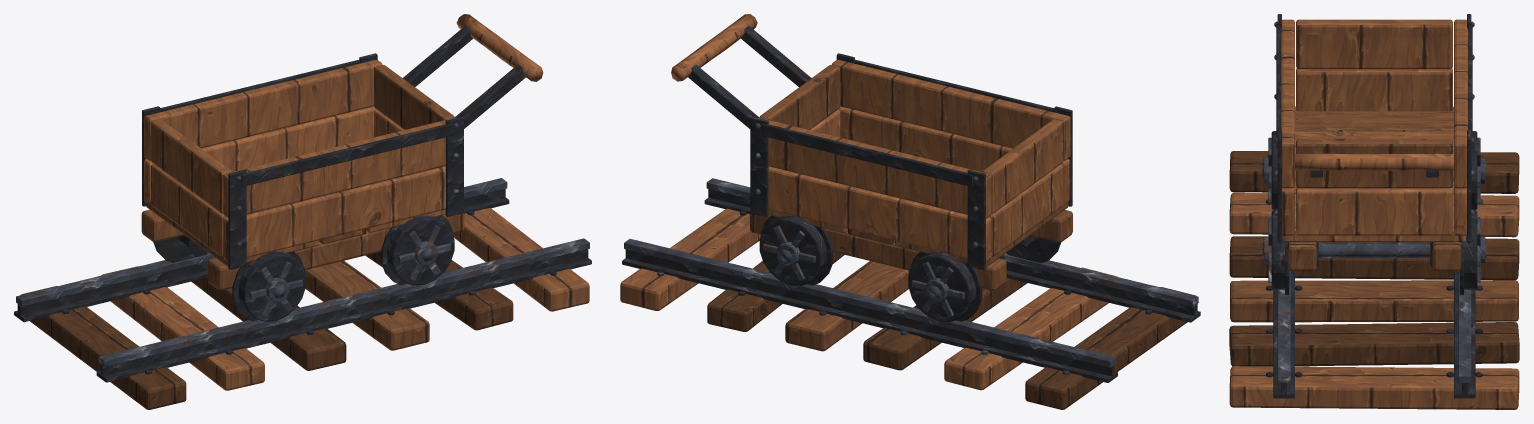
File: hw_ingot_cart_empty.glb
3 views of the same model, side by side, from view 1: azimuth 30°, elevation 25°; view 2: azimuth 150°, elevation 25°; view 3: azimuth 270°, elevation 25° (orthographic). The views are drawn at different scales.
Parts seen in each view (by area): view 1: model; view 2: model; view 3: model.
Boxes of the visible parts, x1,y1,x2,y2 form: model: (14,14,591,409); model: (620,14,1200,409); model: (1229,14,1519,409).
Size of the model in its own units: 1.7 by 0.7396 by 0.8034.
Materials: 6 (6 with a texture image).
